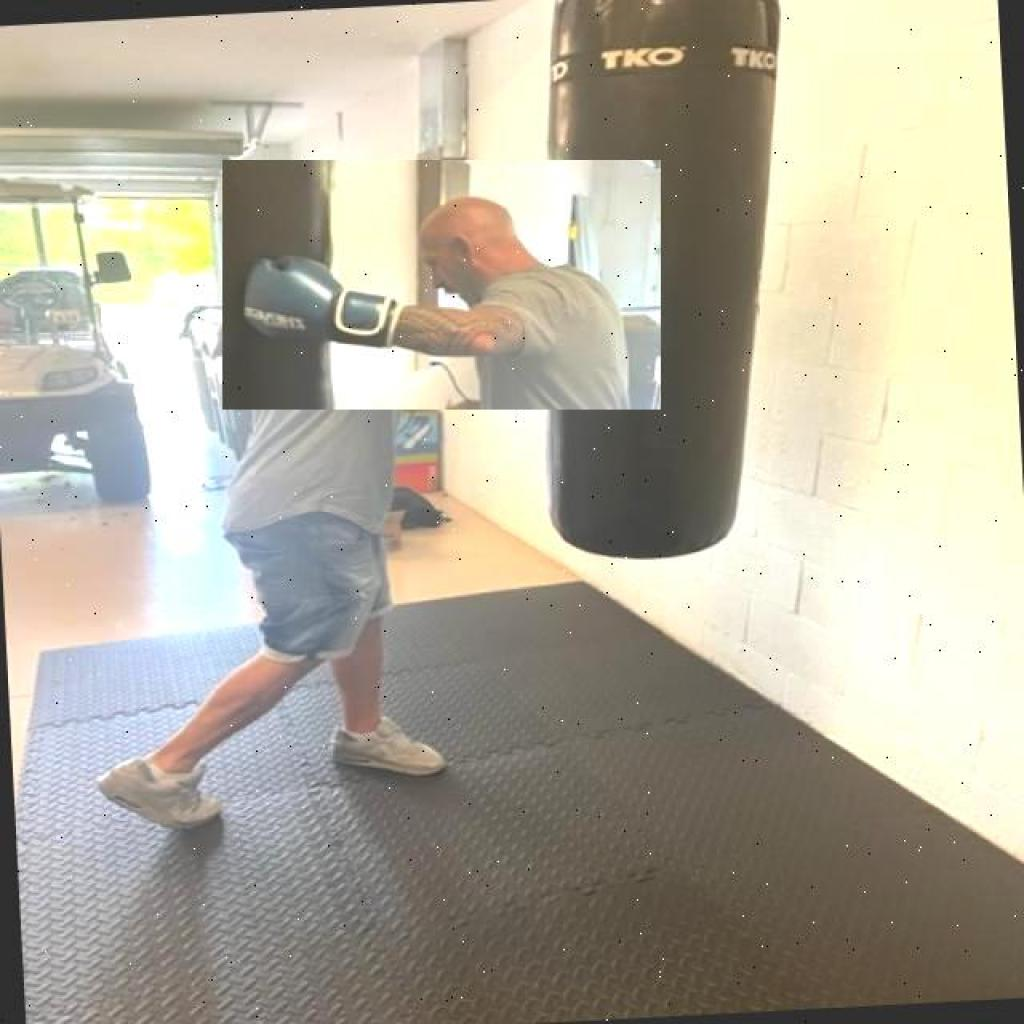hook: (222, 160, 661, 410)
